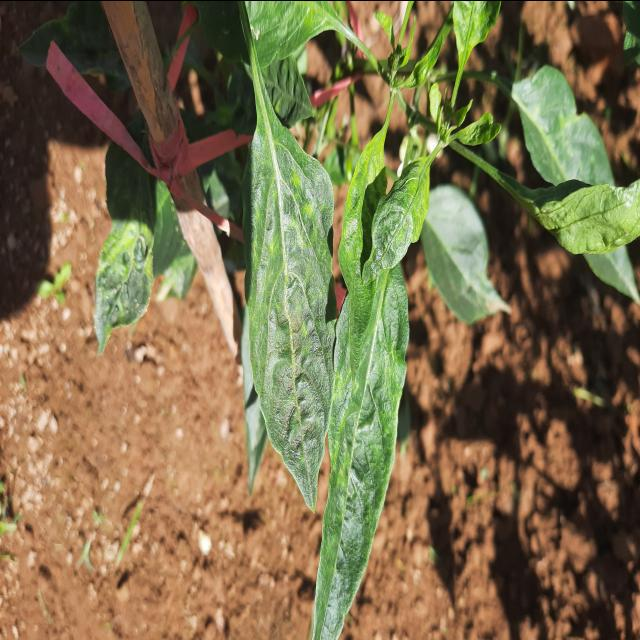thrips: (238, 77, 338, 520), (314, 236, 421, 640), (372, 131, 442, 299)
